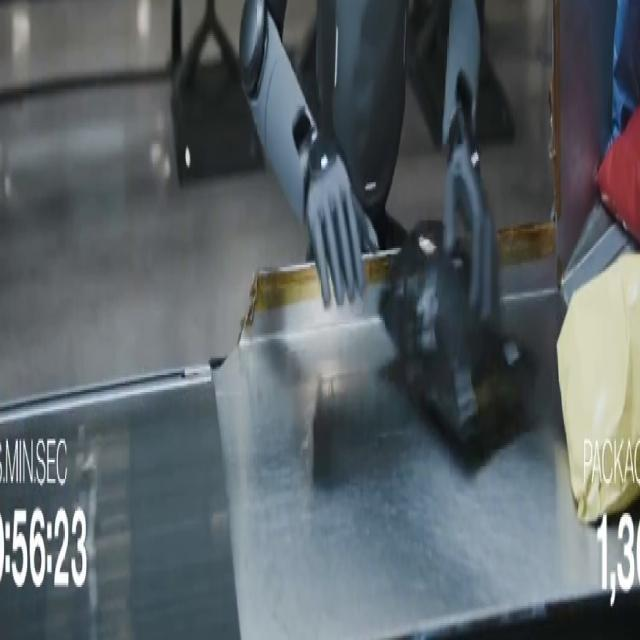package: (558, 255, 639, 523), (598, 109, 639, 241), (612, 0, 639, 141)
